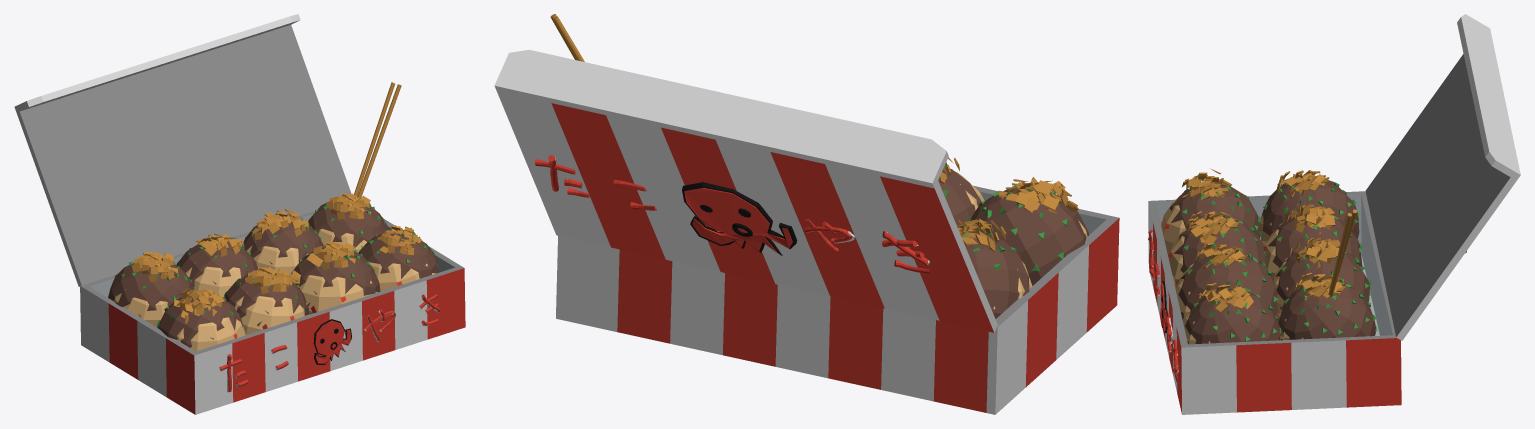
Rendered from Takoyaki.glb.
The picture shows the model from 3 angles, left to right: view 1: azimuth 30°, elevation 25°; view 2: azimuth 150°, elevation 25°; view 3: azimuth 270°, elevation 25°; orthographic projection. The views are drawn at different scales.
Parts seen in each view (by area): view 1: node_MeshObject1644530688-PolyPaper10, node_MeshObject182094848-PolyPaper19, node_MeshObject1044587520-PolyPaper8, node_MeshObject-389984256-PolyPaper19, node_MeshObject-962063360-PolyPaper19, node_MeshObject1072451584-PolyPaper10, node_MeshObject472508416-PolyPaper21; view 2: node_MeshObject1644530688-PolyPaper10, node_MeshObject-389984256-PolyPaper19, node_MeshObject182094848-PolyPaper19, node_MeshObject1072451584-PolyPaper10, node_MeshObject472508416-PolyPaper21; view 3: node_MeshObject1644530688-PolyPaper10, node_MeshObject1044587520-PolyPaper8, node_MeshObject182094848-PolyPaper19, node_MeshObject-389984256-PolyPaper19, node_MeshObject-962063360-PolyPaper19, node_MeshObject1072451584-PolyPaper10, node_MeshObject472508416-PolyPaper21.
Part boxes in pixels (x1,y1,x2,y2): node_MeshObject1644530688-PolyPaper10: [14, 14, 465, 414]; node_MeshObject182094848-PolyPaper19: [157, 82, 460, 412]; node_MeshObject1044587520-PolyPaper8: [156, 202, 387, 299]; node_MeshObject-389984256-PolyPaper19: [158, 217, 418, 351]; node_MeshObject-962063360-PolyPaper19: [176, 202, 433, 313]; node_MeshObject1072451584-PolyPaper10: [131, 193, 422, 282]; node_MeshObject472508416-PolyPaper21: [219, 84, 440, 392]; node_MeshObject1644530688-PolyPaper10: [494, 49, 1119, 414]; node_MeshObject-389984256-PolyPaper19: [966, 177, 1088, 285]; node_MeshObject182094848-PolyPaper19: [553, 16, 1110, 270]; node_MeshObject1072451584-PolyPaper10: [882, 219, 1006, 273]; node_MeshObject472508416-PolyPaper21: [550, 14, 855, 251]; node_MeshObject1644530688-PolyPaper10: [1148, 14, 1520, 414]; node_MeshObject1044587520-PolyPaper8: [1184, 177, 1377, 340]; node_MeshObject182094848-PolyPaper19: [1149, 188, 1357, 410]; node_MeshObject-389984256-PolyPaper19: [1161, 168, 1362, 309]; node_MeshObject-962063360-PolyPaper19: [1176, 213, 1364, 341]; node_MeshObject1072451584-PolyPaper10: [1196, 170, 1346, 312]; node_MeshObject472508416-PolyPaper21: [1148, 213, 1351, 382].
Bounding box in the file's own units: 1.17 × 0.7832 × 1.05.
